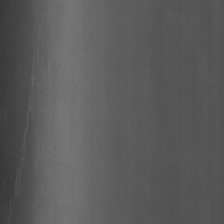silk_spot: (11, 59, 47, 187)
